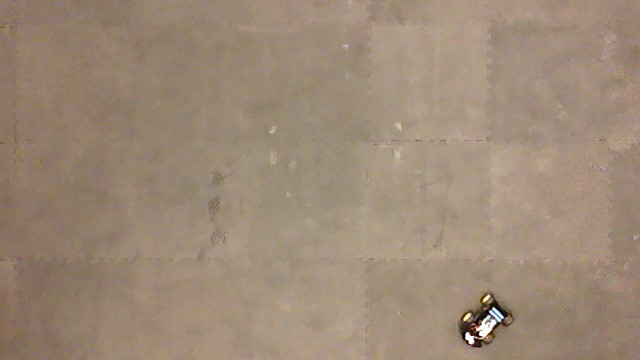Agent: (458, 292, 516, 350)
